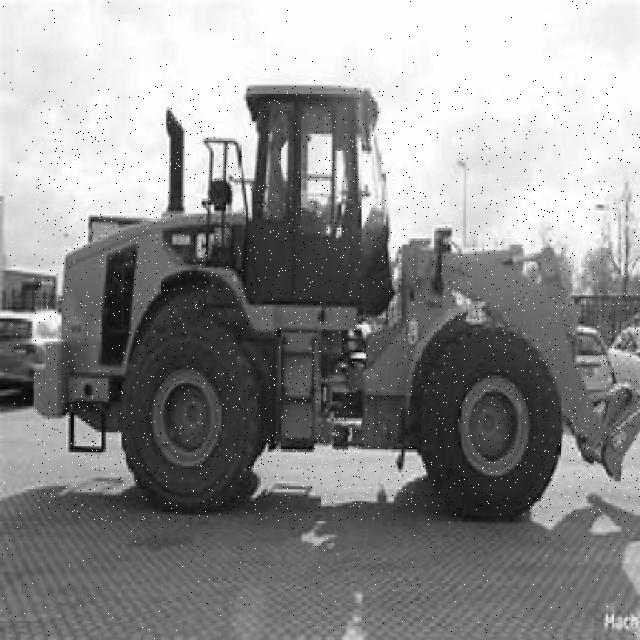Construction Equipment: (33, 86, 640, 522)
